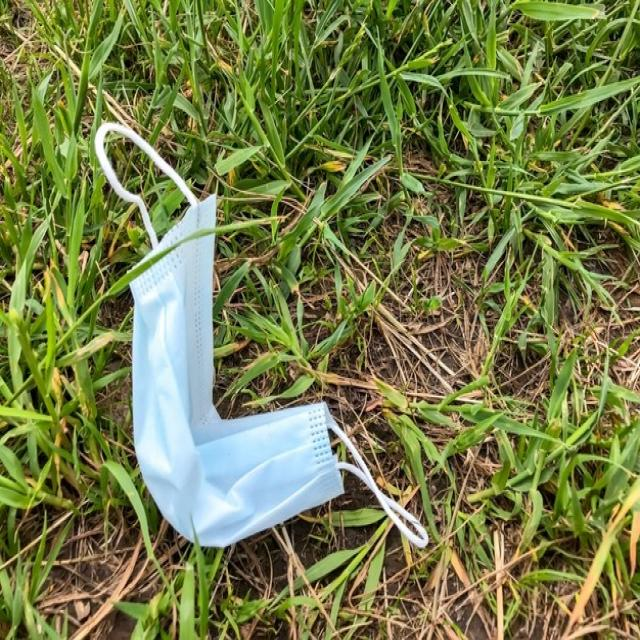non-organic waste: (86, 121, 425, 548)
